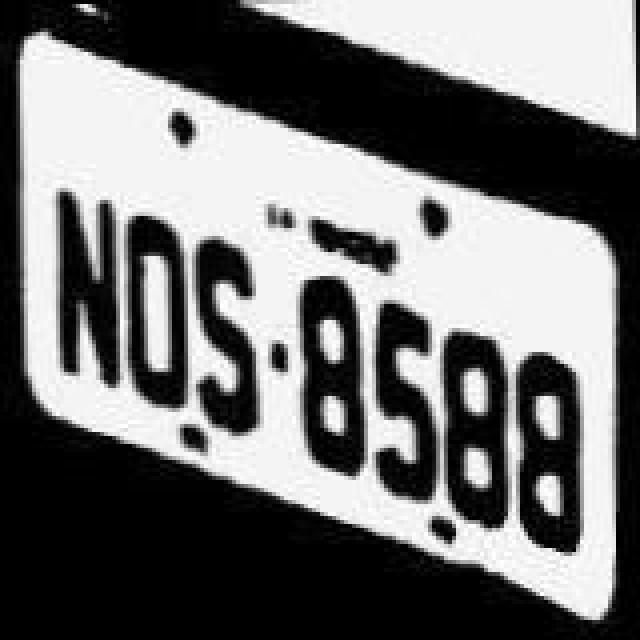5: (372, 280, 444, 516)
8: (510, 326, 594, 586), (300, 274, 380, 502), (444, 326, 516, 534)
N: (44, 186, 128, 398)
O: (120, 202, 196, 418)
S: (196, 232, 272, 436)
